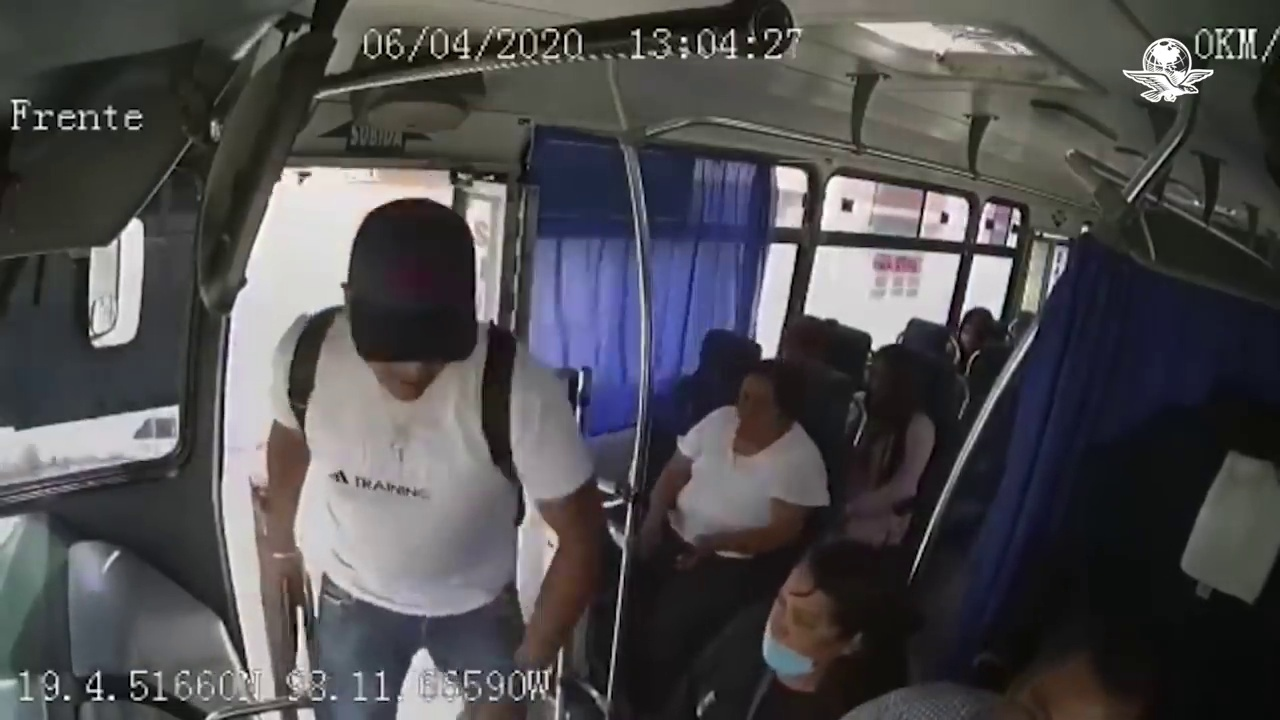pistol: (274, 570, 303, 658)
